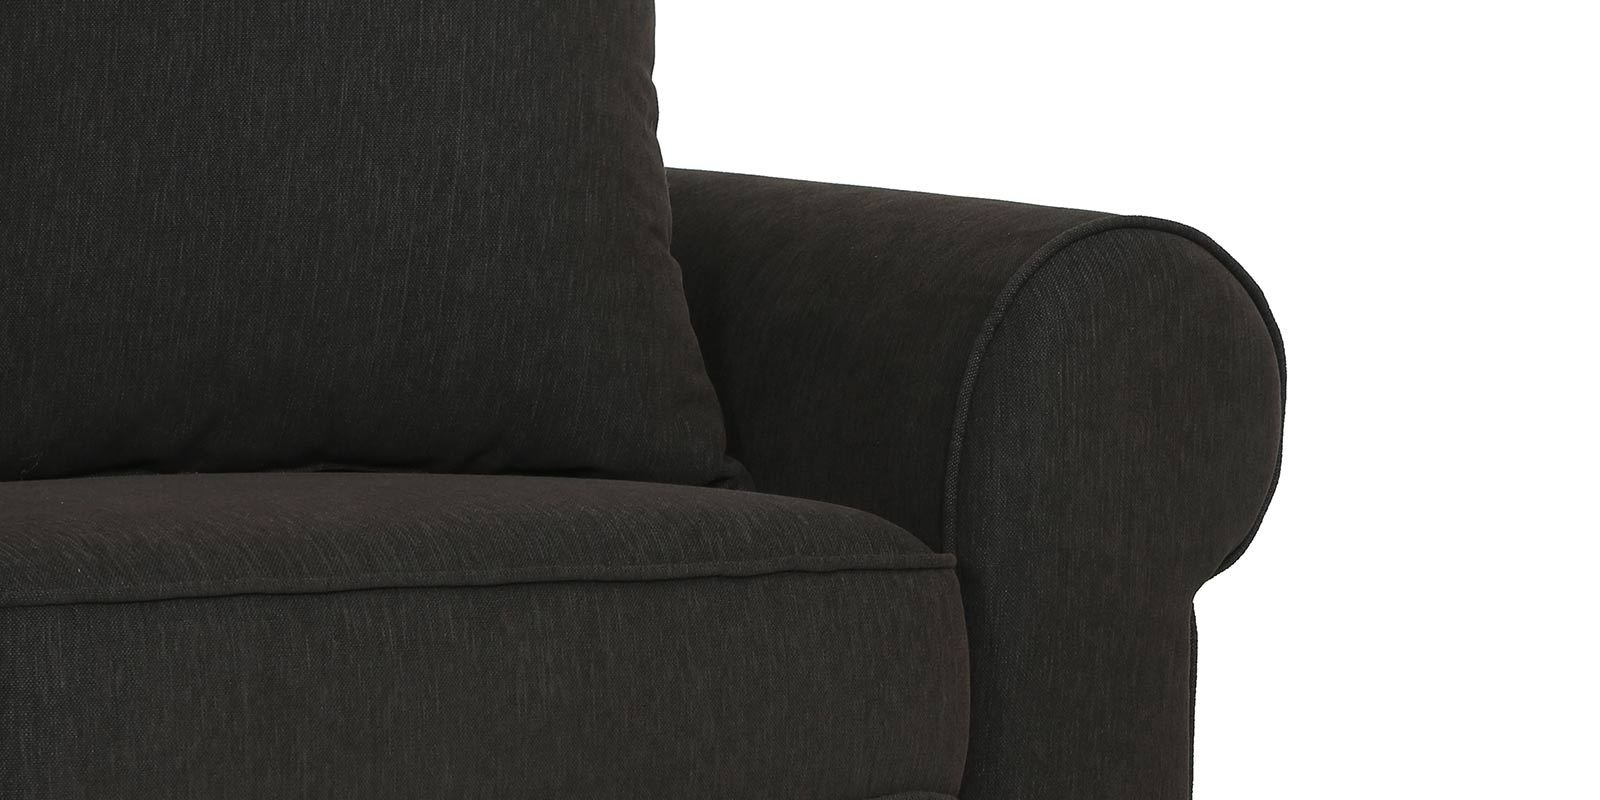Madeira Three Seater Sofa in Chestnut Brown Colour by CasaCraft: (2, 1, 1287, 800)
